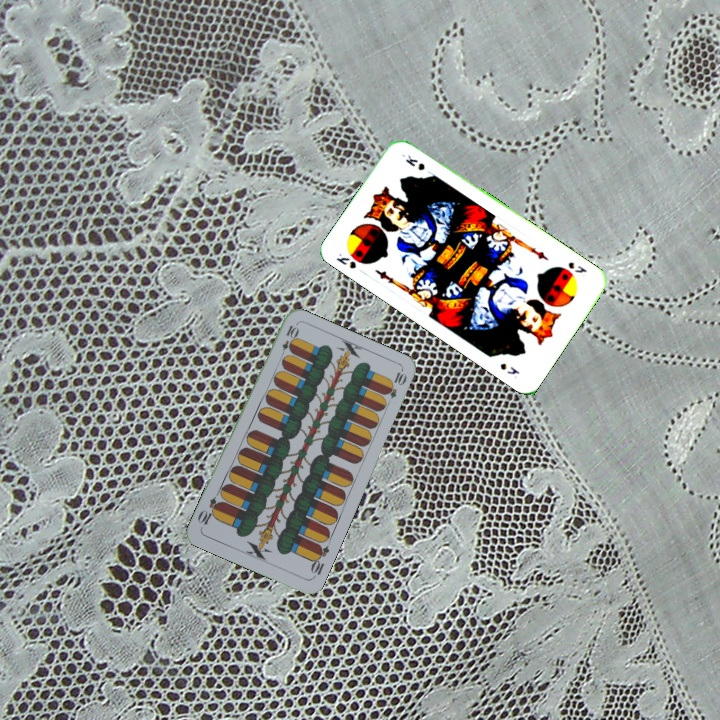E10: (306, 540, 332, 581), (276, 321, 300, 361)
SK: (332, 249, 359, 271), (564, 258, 590, 276)
